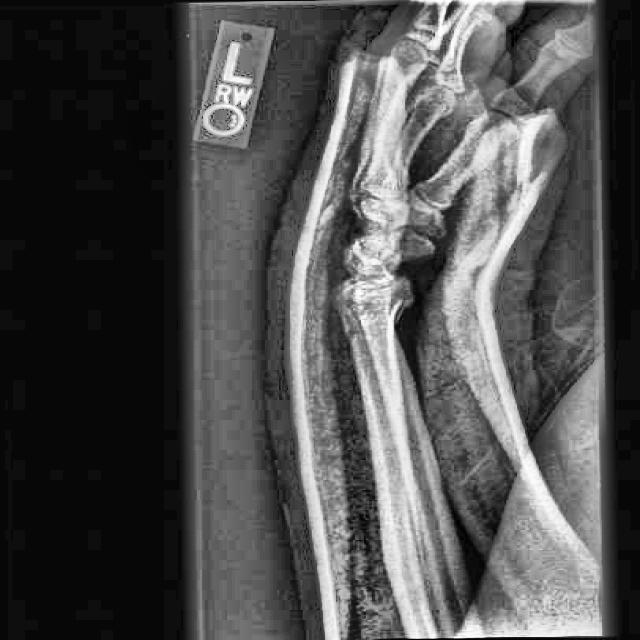wrist positive: (326, 304, 422, 368)
